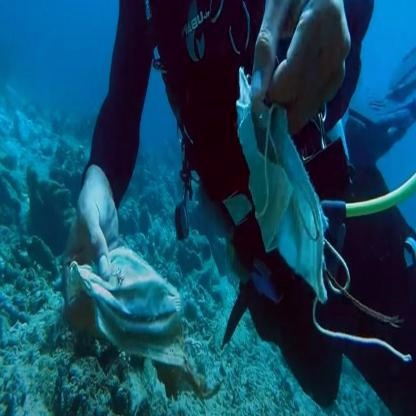Mask: (233, 66, 352, 312), (66, 246, 198, 396)
